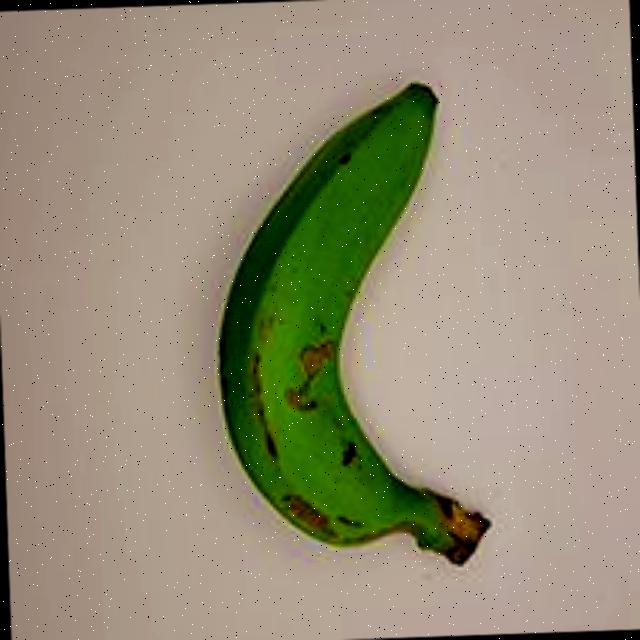Raw: (174, 48, 515, 602)
